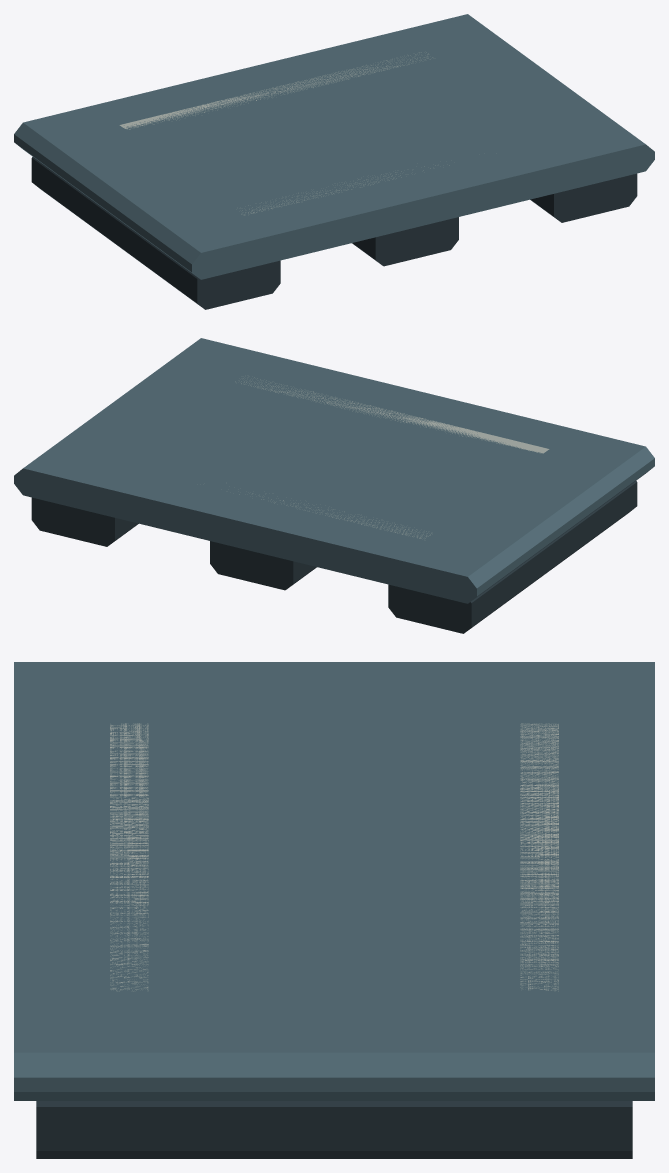
File: K-11_pallet.glb
3 renders of one model, top to bottom at view 1: azimuth 30°, elevation 25°; view 2: azimuth 150°, elevation 25°; view 3: azimuth 270°, elevation 25°, orthographic. The views are drawn at different scales.
Parts seen in each view (by area): view 1: K-11_pallet; view 2: K-11_pallet; view 3: K-11_pallet.
Boxes of the visible parts, x1,y1,x2,y2 form: K-11_pallet: (14,14,654,309); K-11_pallet: (14,338,654,633); K-11_pallet: (14,662,654,1158).
Size of the model in its own units: 1.2 by 0.159 by 0.8.
